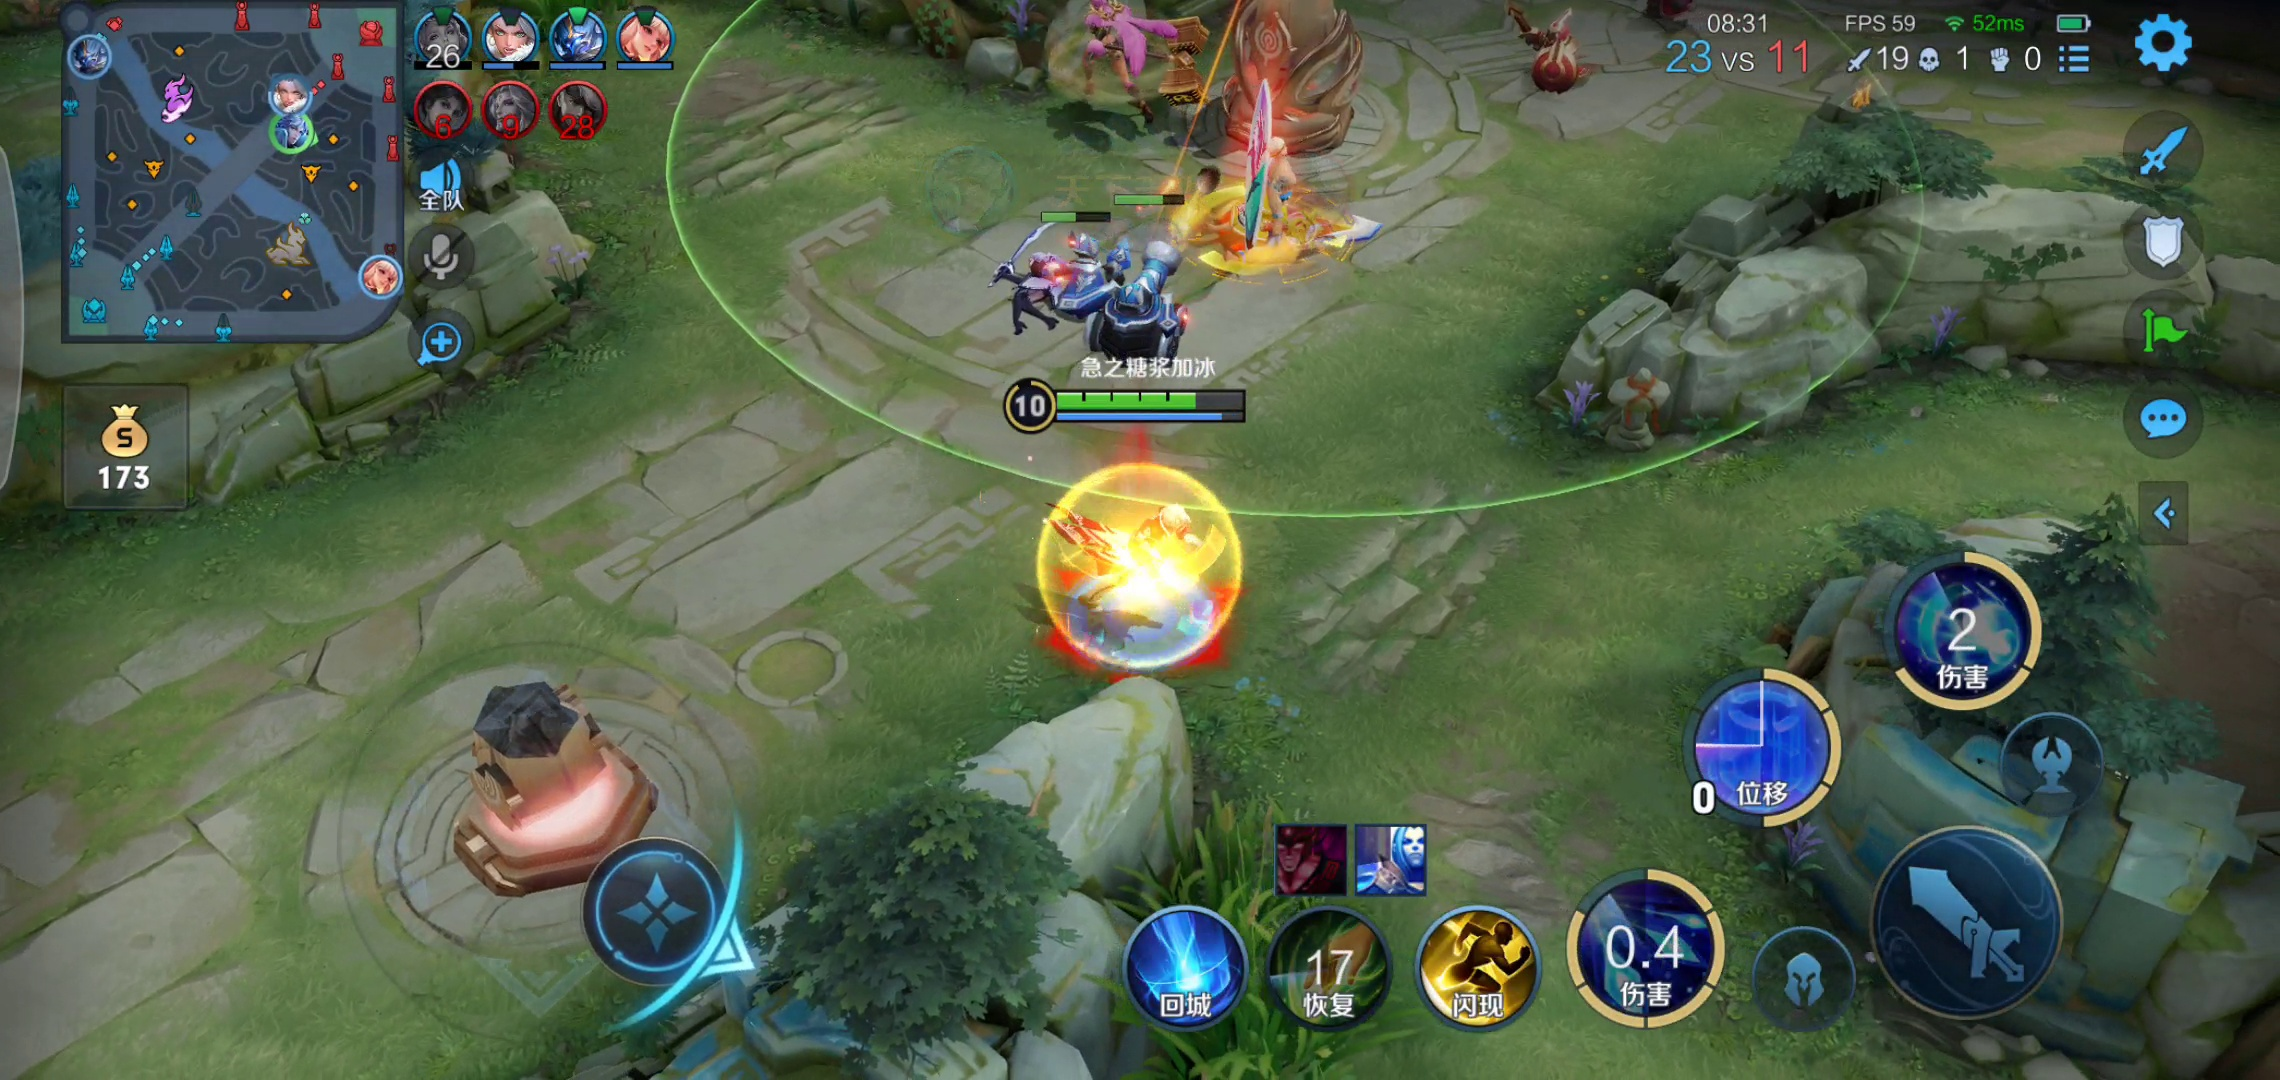grass: (1144, 818, 1384, 1070)
hero: (1032, 477, 1249, 672), (1205, 128, 1365, 286), (1051, 1, 1184, 121)
soldier: (1088, 235, 1203, 363), (1493, 1, 1597, 102), (1035, 222, 1118, 314)
tower: (1192, 1, 1408, 157)
